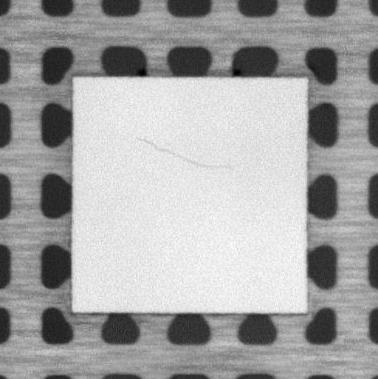DIE_CRACK: (136, 135, 230, 172)
